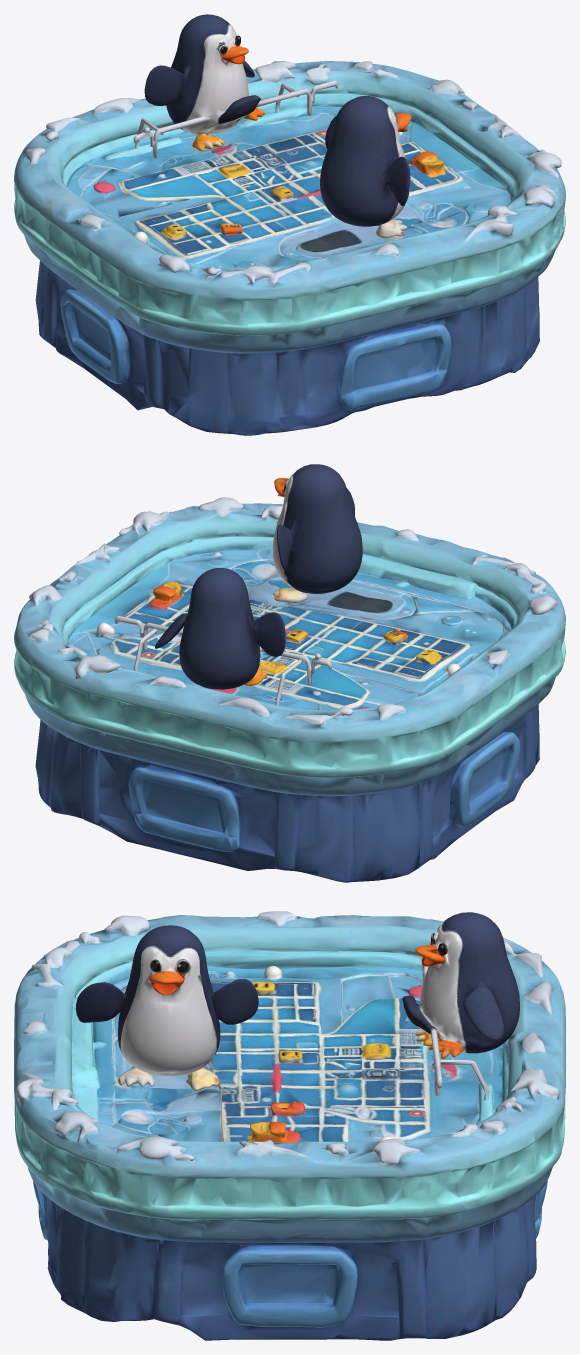
The model's file is pv-craps-diet.glb.
3 views of the same model, one above another, from view 1: azimuth 30°, elevation 25°; view 2: azimuth 150°, elevation 25°; view 3: azimuth 270°, elevation 25° (orthographic). The views are drawn at different scales.
Parts seen in each view (by area): view 1: tripo_node_83b10272-155c-402e-86e8-24e63a5b5b9e; view 2: tripo_node_83b10272-155c-402e-86e8-24e63a5b5b9e; view 3: tripo_node_83b10272-155c-402e-86e8-24e63a5b5b9e.
Boxes of the visible parts, <box> form: tripo_node_83b10272-155c-402e-86e8-24e63a5b5b9e: <box>14,14,565,435</box>; tripo_node_83b10272-155c-402e-86e8-24e63a5b5b9e: <box>14,464,565,882</box>; tripo_node_83b10272-155c-402e-86e8-24e63a5b5b9e: <box>14,911,565,1340</box>.
Bounding box in the file's own units: 0.9787 × 0.5839 × 0.9147.
Materials: 1 (1 with a texture image).
